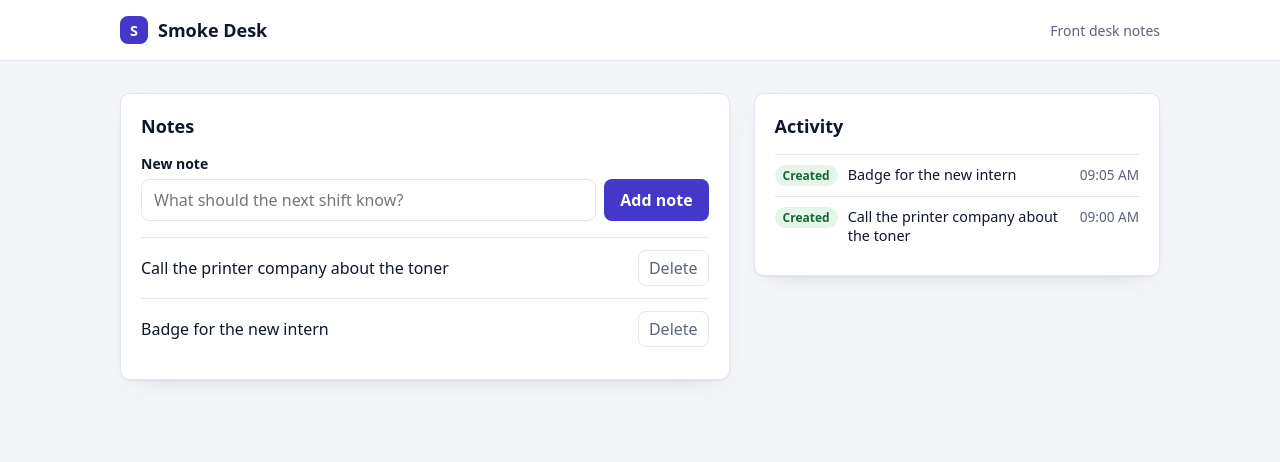
Test: the desk › writes a note, and the activity shows it
Type "Order more coffee" into the field labelled "New note" at x=369, y=200, box [141, 179, 596, 221]
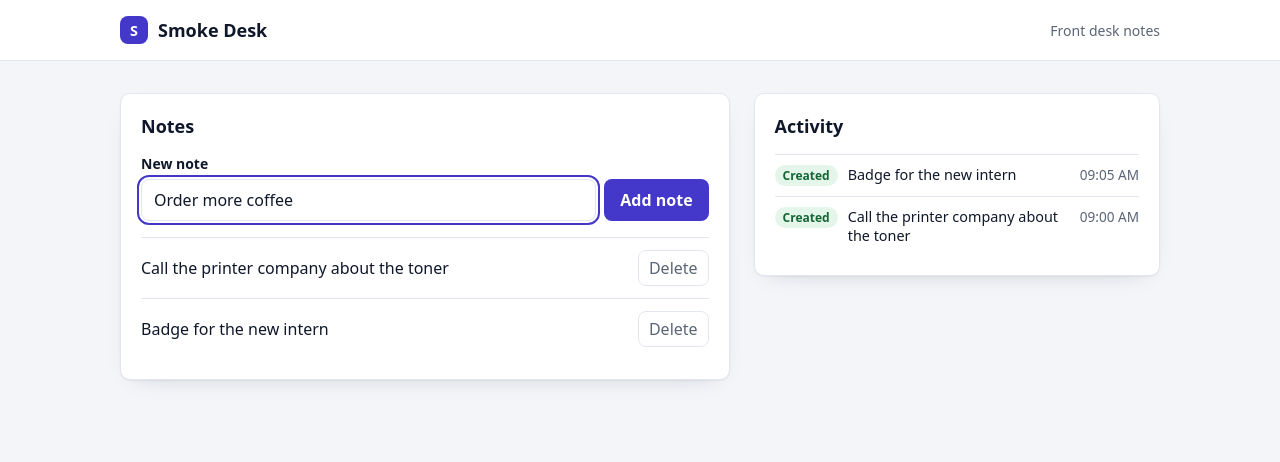
Click the button "Add note" at x=656, y=200, box [604, 179, 709, 221]
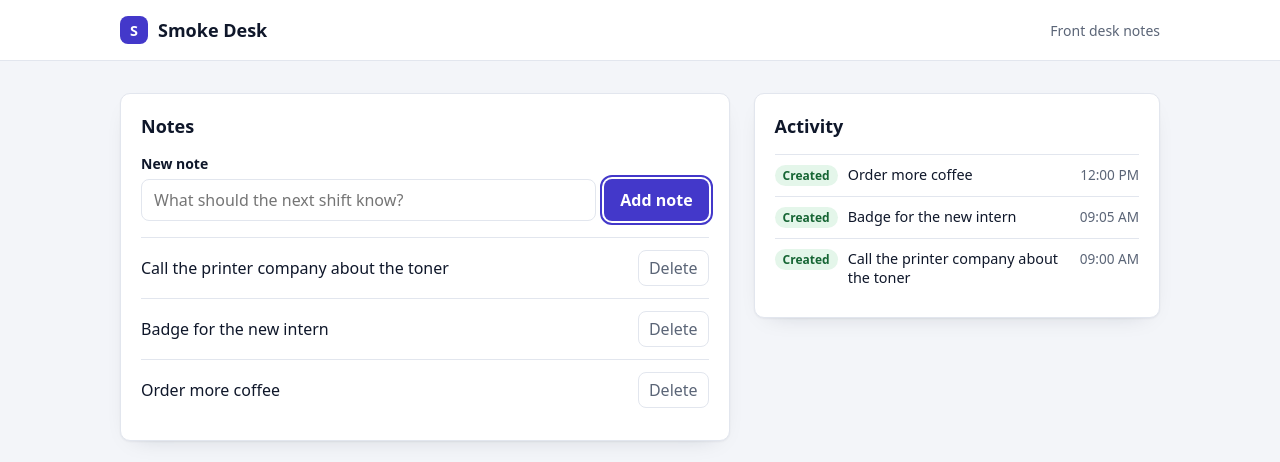
Check: the text "Order more coffee" below "New note" is shown, box [141, 379, 280, 401]
Check: the field labelled "New note" is empty, box [141, 179, 596, 221]
